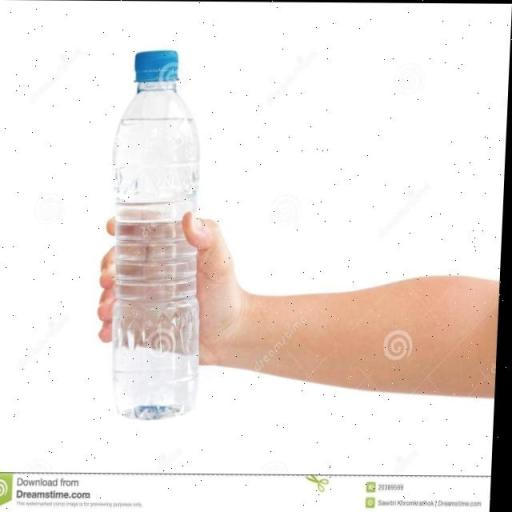plastic: (102, 47, 216, 423)
